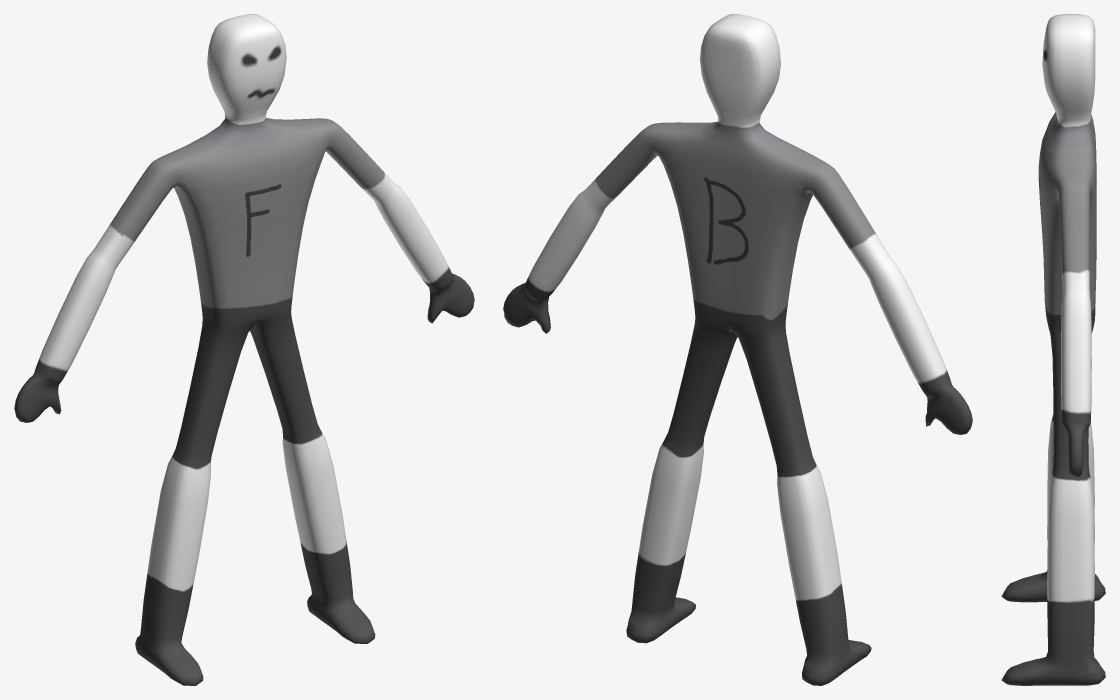
Rendered from BillyOnlyModel.fbx.
3 renders of one model, left to right at view 1: azimuth 30°, elevation 25°; view 2: azimuth 150°, elevation 25°; view 3: azimuth 270°, elevation 25°, orthographic. The views are drawn at different scales.
Parts seen in each view (by area): view 1: BillyFinish; view 2: BillyFinish; view 3: BillyFinish.
Part boxes in pixels (<box>): BillyFinish: <box>14,14,474,685</box>; BillyFinish: <box>503,14,972,685</box>; BillyFinish: <box>1001,14,1105,685</box>.
Size of the model in its own units: 1.44 by 0.2843 by 1.87.
1 material, 1 textured.
